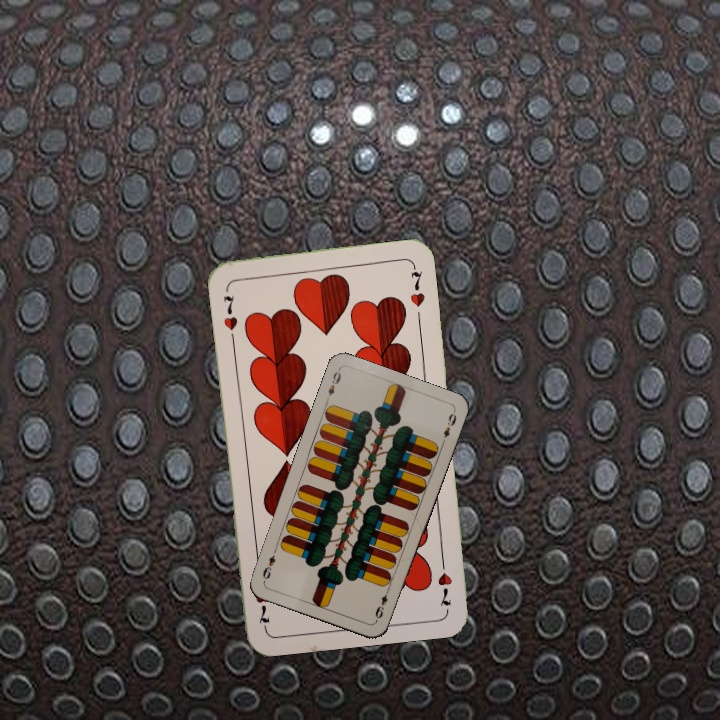E9: (322, 366, 344, 405), (371, 584, 392, 624)
H7: (433, 552, 455, 609), (219, 291, 241, 333)
